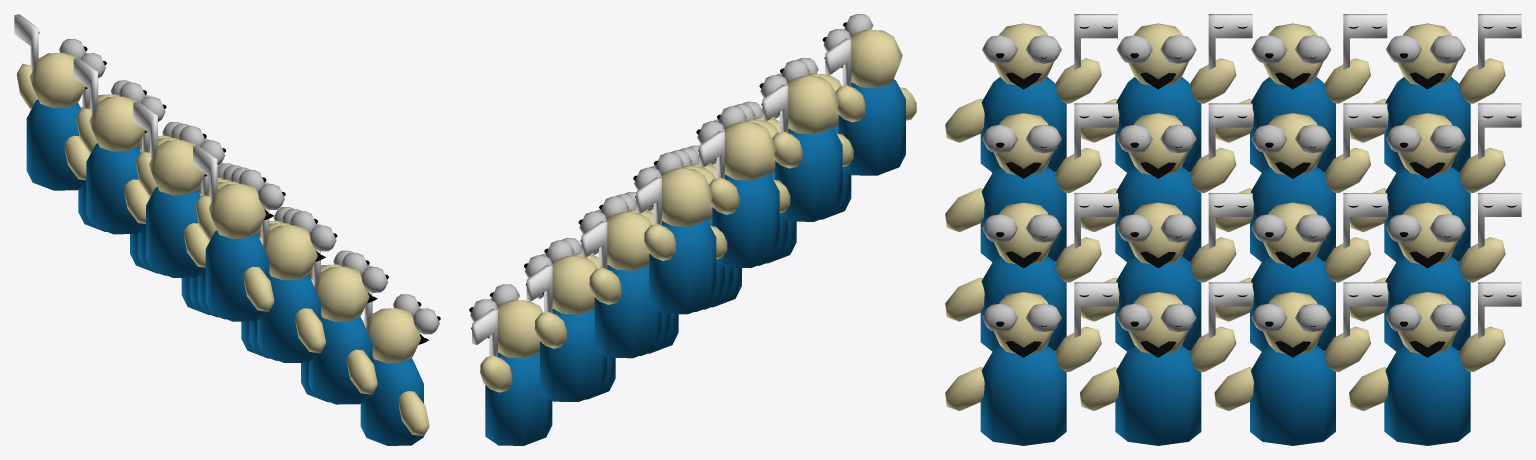
Rendered from Crowd1.glb.
3 views of the same model, side by side, from view 1: azimuth 30°, elevation 25°; view 2: azimuth 150°, elevation 25°; view 3: azimuth 270°, elevation 25° (orthographic). The views are drawn at different scales.
Parts seen in each view (by area): view 1: Sphere.035; view 2: Sphere.035; view 3: Sphere.035.
Boxes of the visible parts, box(x1,y1,x2,y2) form: Sphere.035: box(14, 14, 440, 445); Sphere.035: box(469, 14, 916, 445); Sphere.035: box(945, 14, 1521, 445).
Size of the model in its own units: 8.46 by 10.95 by 17.13.
